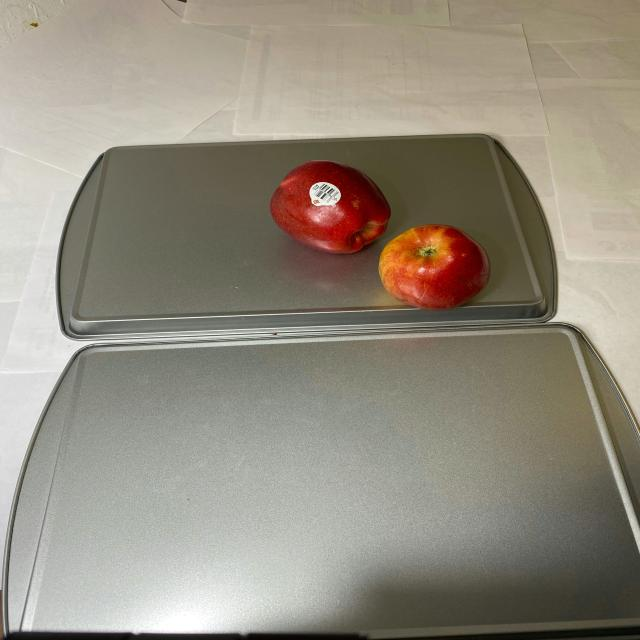apple: (268, 159, 494, 311)
